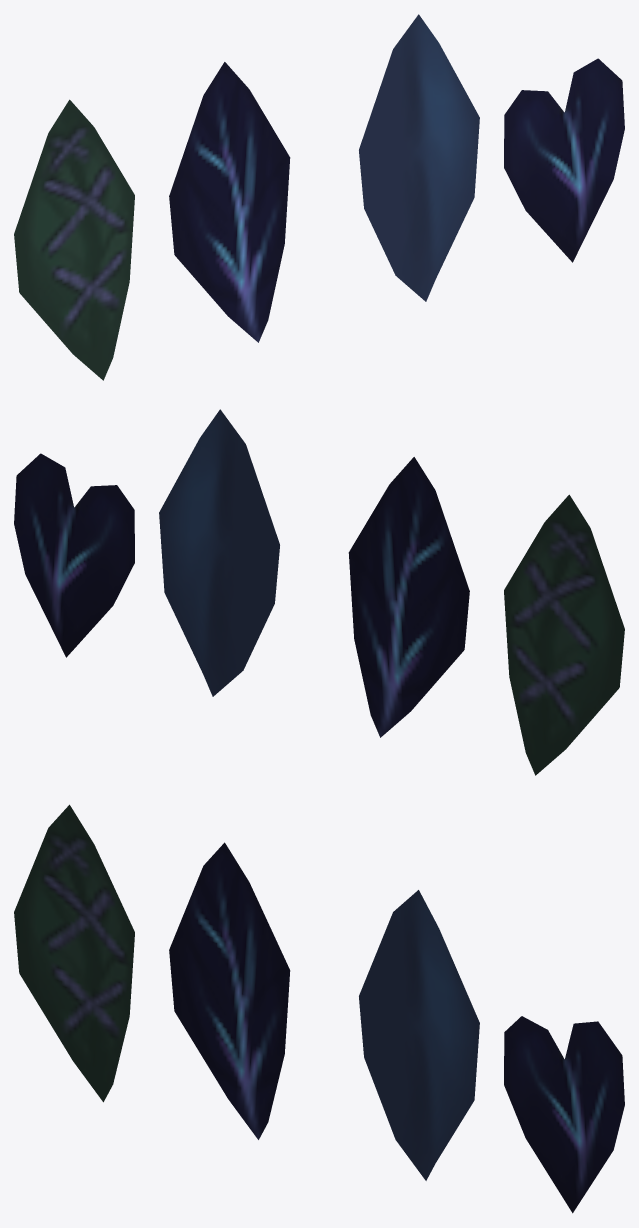
Rendered from Prop_pl_00.fbx.
3 views of the same model, one above another, from view 1: azimuth 30°, elevation 25°; view 2: azimuth 150°, elevation 25°; view 3: azimuth 330°, elevation 25° (orthographic).
Parts seen in each view (by area): view 1: Prop_pl_02, Prop_pl_01, Prop_pl_04, Prop_pl_03; view 2: Prop_pl_02, Prop_pl_01, Prop_pl_04, Prop_pl_03; view 3: Prop_pl_02, Prop_pl_01, Prop_pl_04, Prop_pl_03.
Part boxes in pixels (x1,y1,x2,y2): Prop_pl_02: [359, 14, 479, 301]; Prop_pl_01: [169, 62, 290, 342]; Prop_pl_04: [14, 99, 134, 380]; Prop_pl_03: [504, 58, 624, 262]; Prop_pl_02: [159, 409, 279, 696]; Prop_pl_01: [348, 457, 469, 737]; Prop_pl_04: [504, 494, 624, 775]; Prop_pl_03: [14, 453, 134, 657]; Prop_pl_02: [359, 890, 479, 1180]; Prop_pl_01: [169, 842, 290, 1139]; Prop_pl_04: [14, 804, 134, 1102]; Prop_pl_03: [504, 1016, 624, 1213].
Bounding box in the file's own units: 4.6 × 2.08 × 3.39e-07.
